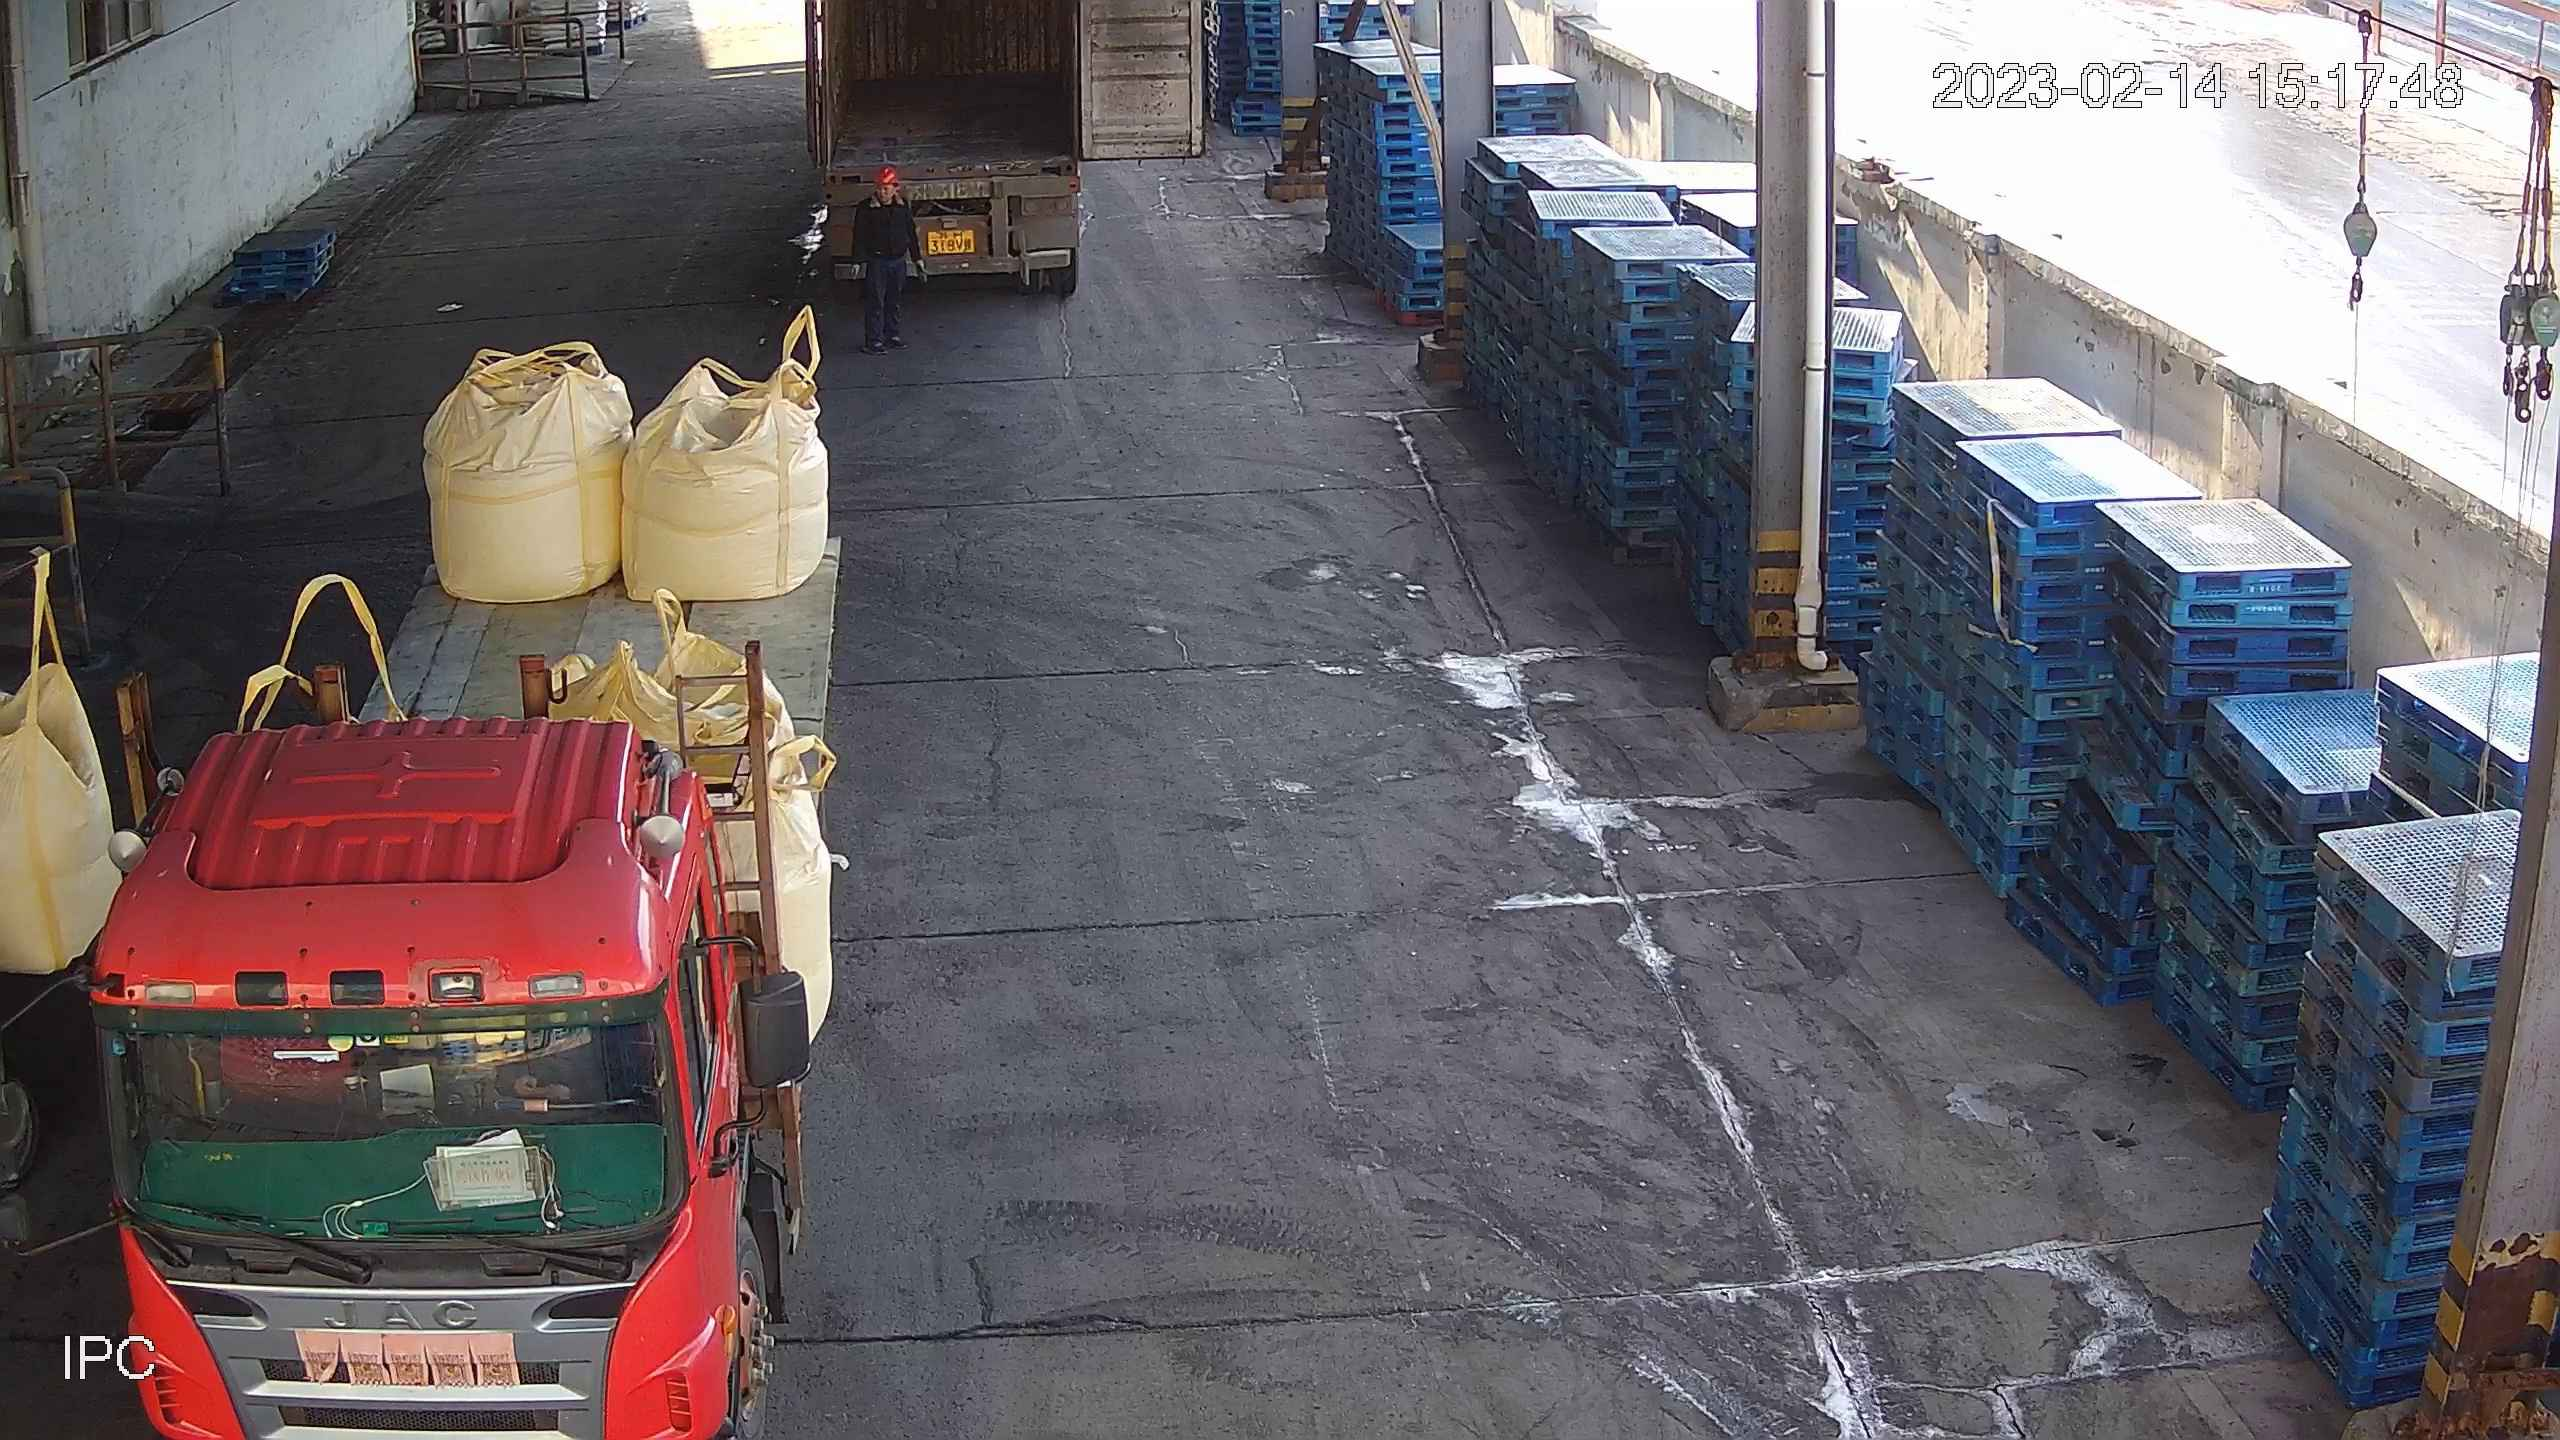head: (853, 166, 915, 214)
helmet: (872, 166, 900, 185)
people: (848, 166, 929, 357)
truck: (84, 357, 845, 1439)
